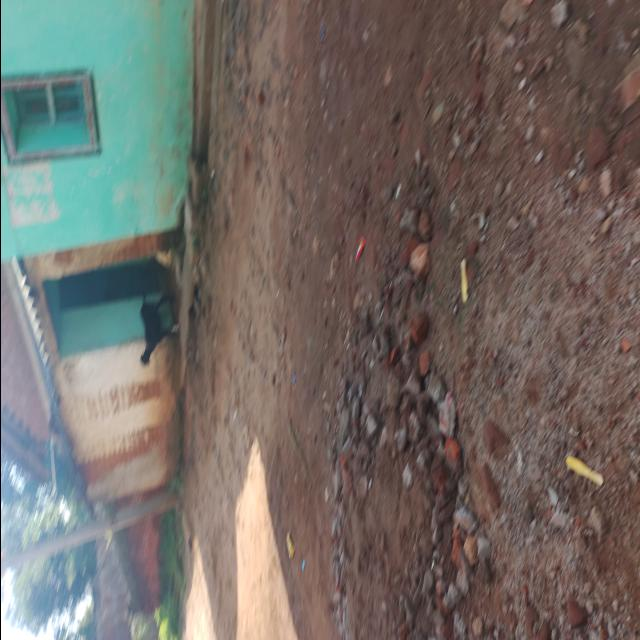potholes: (281, 126, 531, 630)
